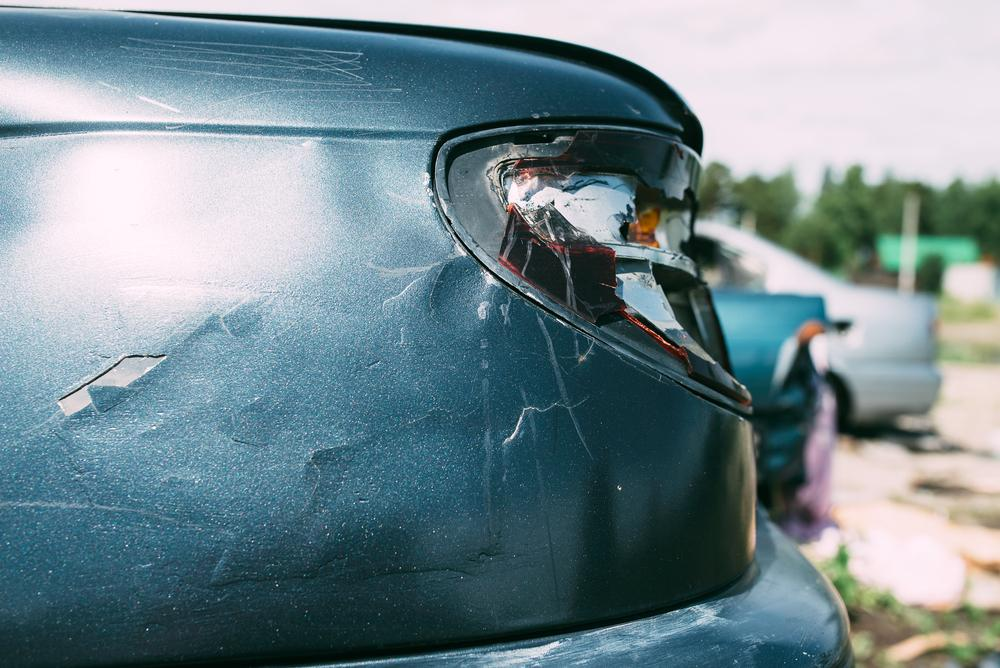lamp broken: (444, 130, 746, 403)
scratch: (112, 32, 403, 102)
